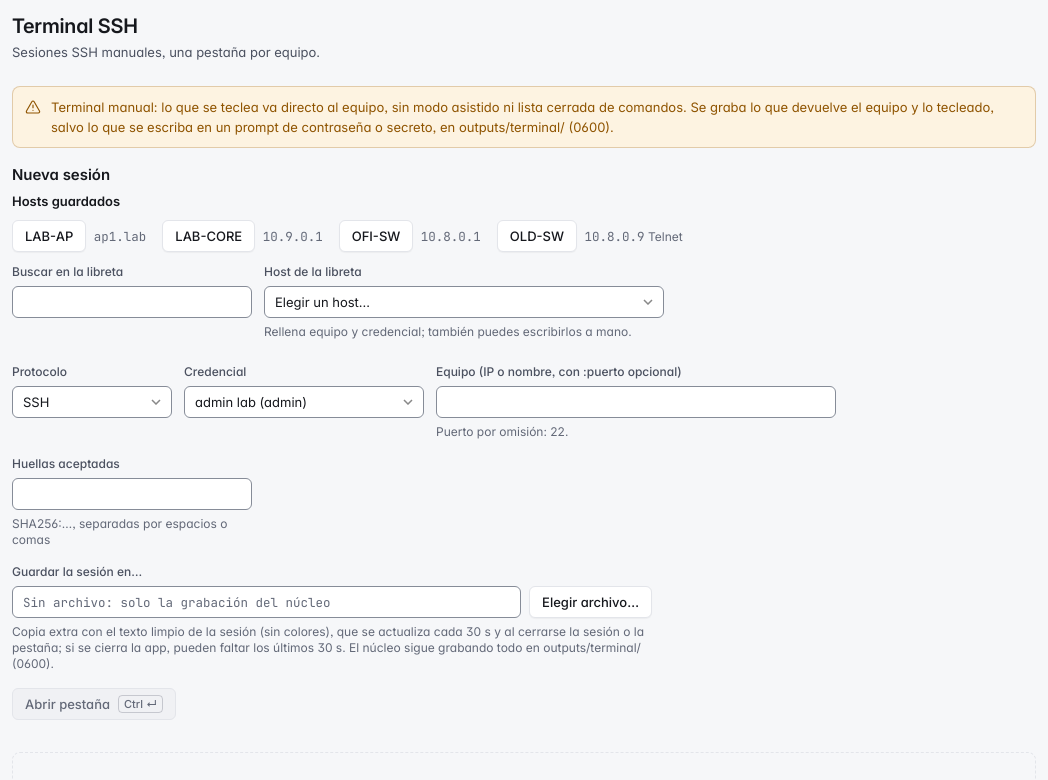
Scenario: un host telnet abre por hostId sin protocol, username ni huellas, y la pestaña queda como Telnet
The image size is (1048, 780).
Select "Escribir usuario y contraseña al conectar" in the dropdown labelled "Credencial" at (304, 402), box [184, 386, 424, 418]
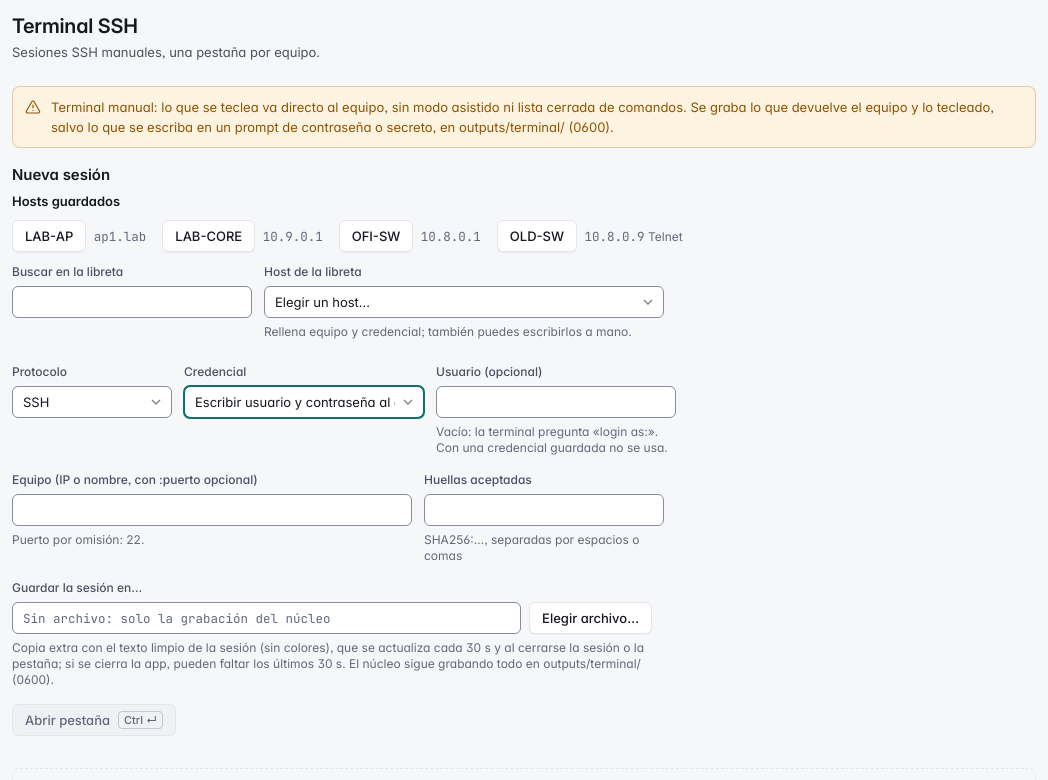
Type "admin" into the field labelled "Usuario (opcional)" at (556, 402), box [436, 386, 676, 418]
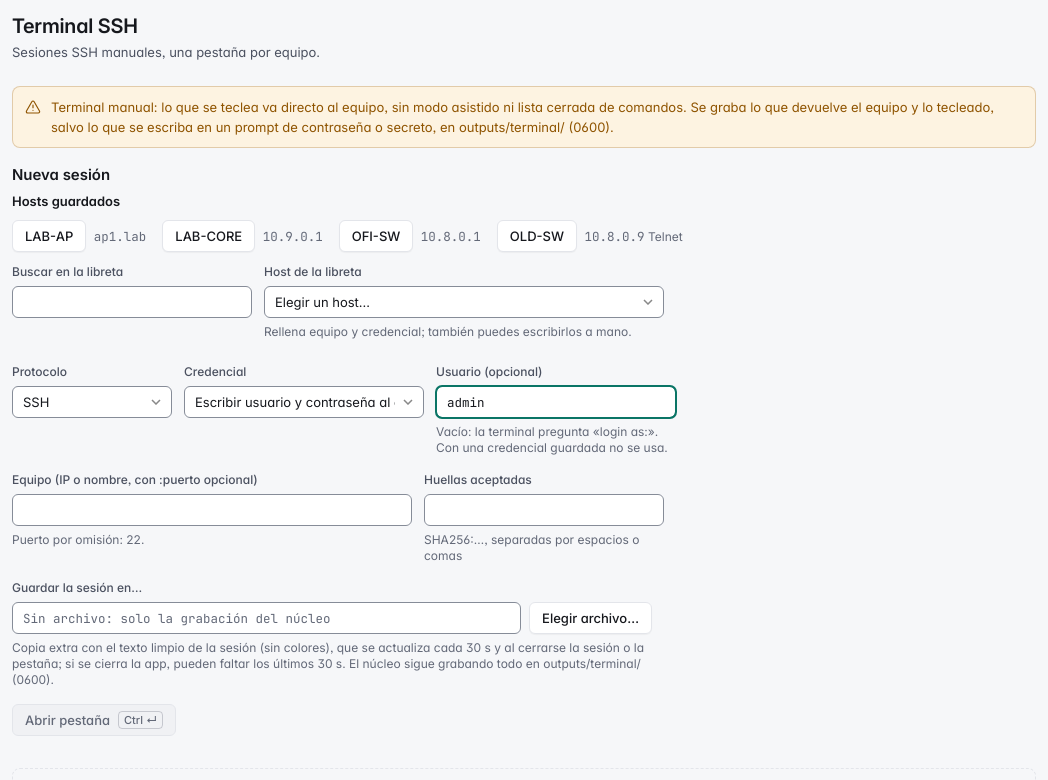
Expected: the list item named "Conectar a OLD-SW" shows "Telnet", [648, 229, 683, 244]
Click the button with aria-label "Conectar a OLD-SW" at (537, 236), box [497, 220, 577, 252]
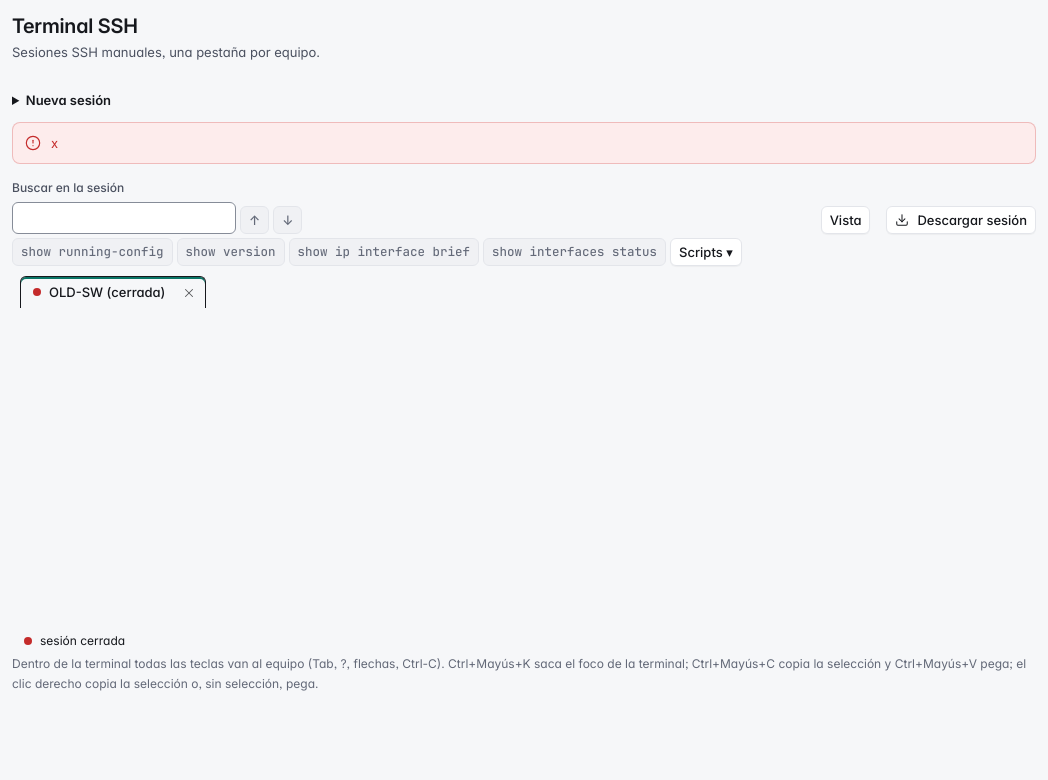
Result: the text "Telnet · conectado a 23" is shown at [40, 631, 125, 651]
